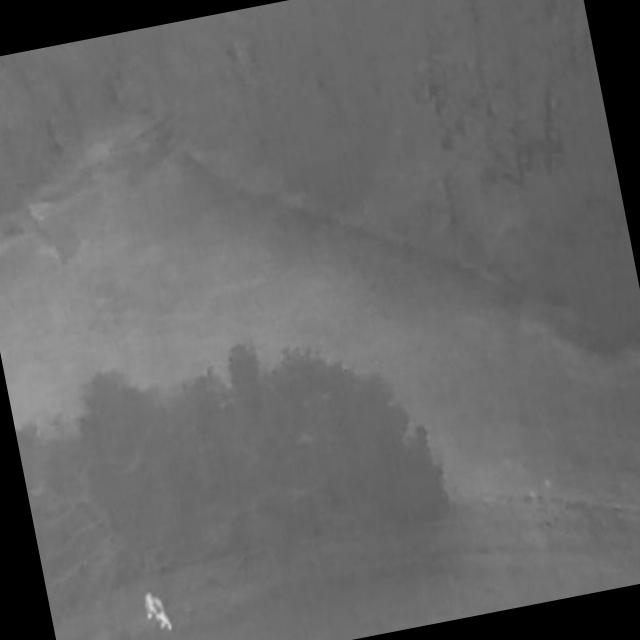person: (143, 591, 174, 636)
